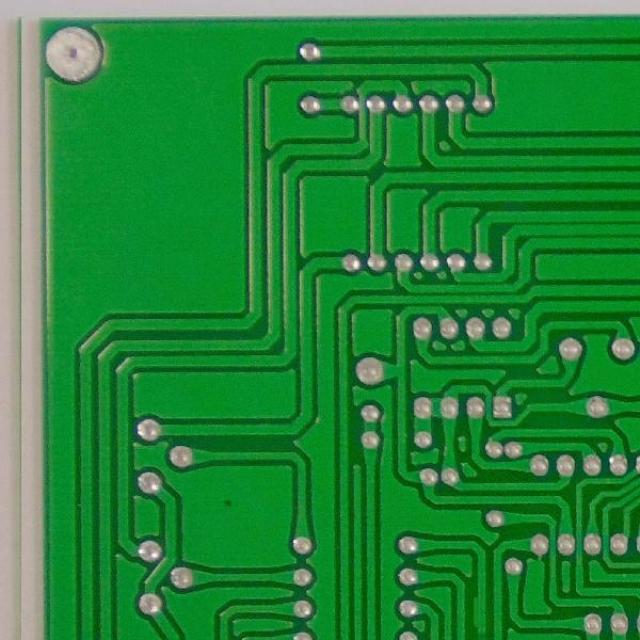spur: (470, 588, 484, 634)
